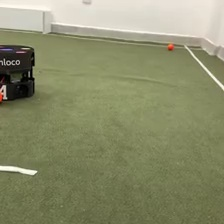ball: (166, 41, 175, 50)
goal: (1, 5, 54, 35)
robot: (1, 42, 36, 104)
